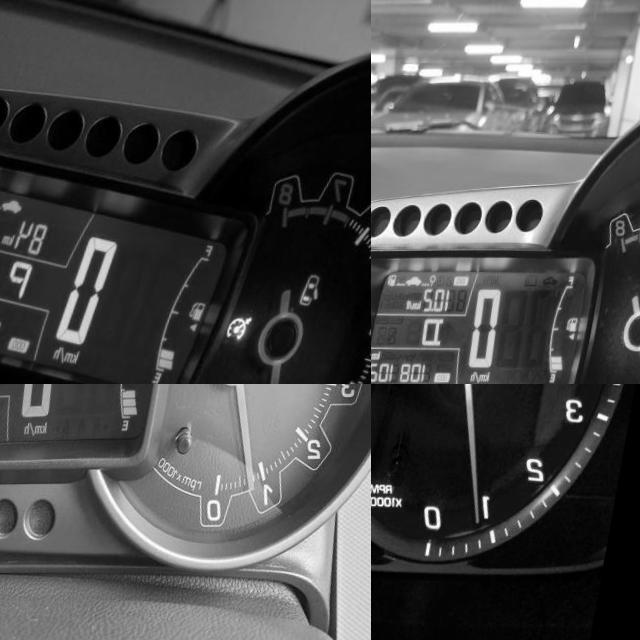Doors: (310, 272, 341, 309)
